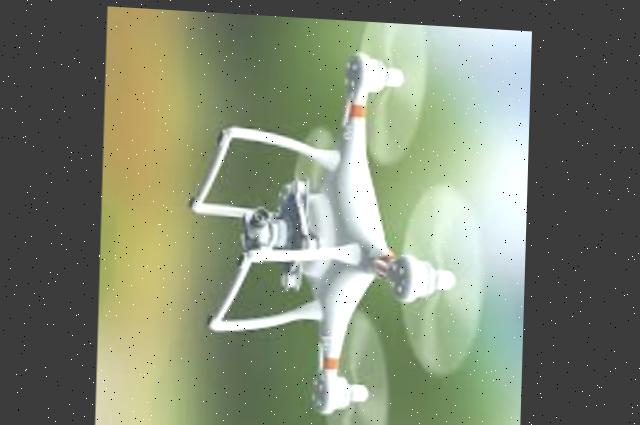drone: (172, 8, 486, 425)
